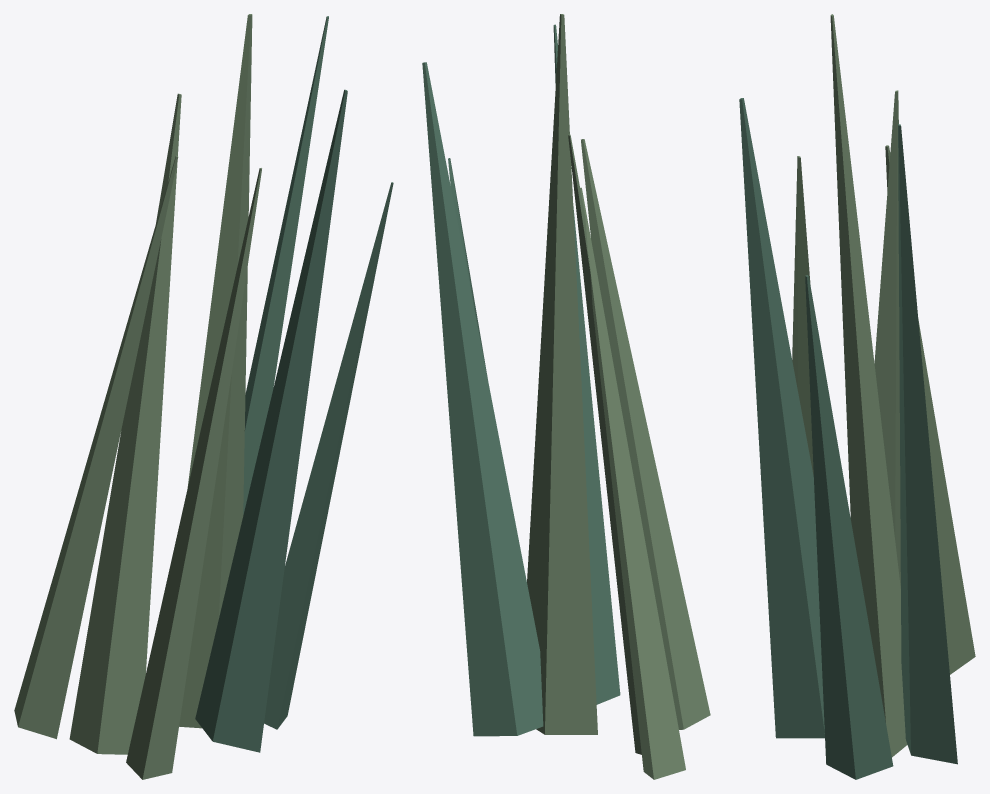
The model's file is grass-tuft-a.glb.
The picture shows the model from 3 angles, left to right: view 1: azimuth 30°, elevation 25°; view 2: azimuth 150°, elevation 25°; view 3: azimuth 270°, elevation 25°; orthographic projection. The views are drawn at different scales.
Visible parts, largest first — view 1: grass-tuft-a; view 2: grass-tuft-a; view 3: grass-tuft-a.
Boxes of the visible parts, box(x1,y1,x2,y2) form: grass-tuft-a: box(14, 14, 393, 779); grass-tuft-a: box(422, 14, 710, 779); grass-tuft-a: box(739, 14, 975, 779).
Size of the model in its own units: 0.1362 by 0.3019 by 0.0872.
